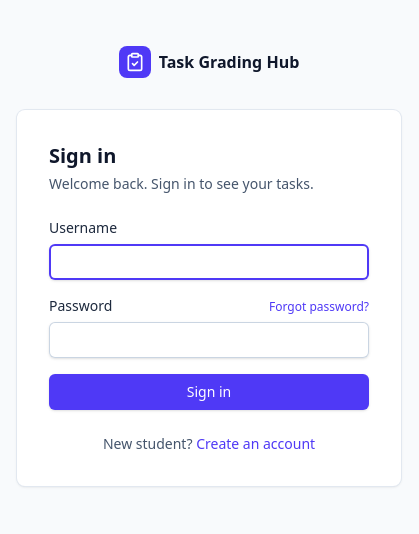
Test: sign in › shows one generic message for a wrong username or password
In the field labelled "Username": [209, 262] box [49,244,369,280], type "linh"
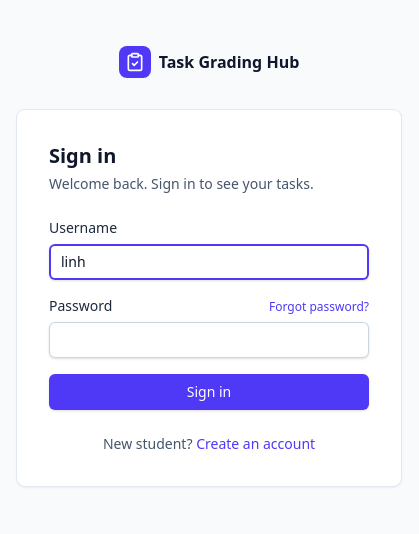
In the password field labelled "Password": [209, 340] box [49,322,369,358], type "wrong-password"
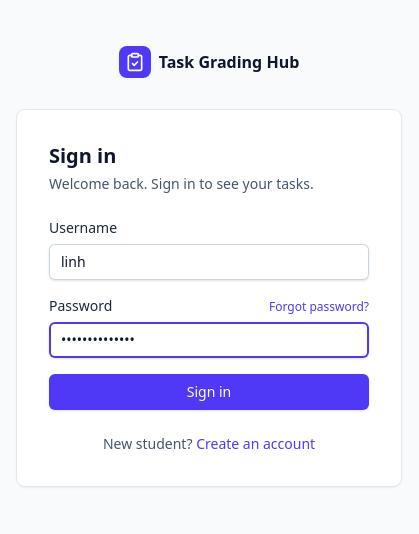
Click the button "Sign in": [209, 392] box [49,374,369,410]
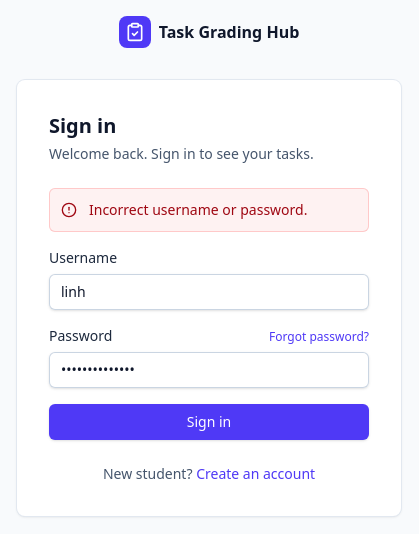
expect the message reads "Incorrect username or password.": met, box [89,200,308,219]
